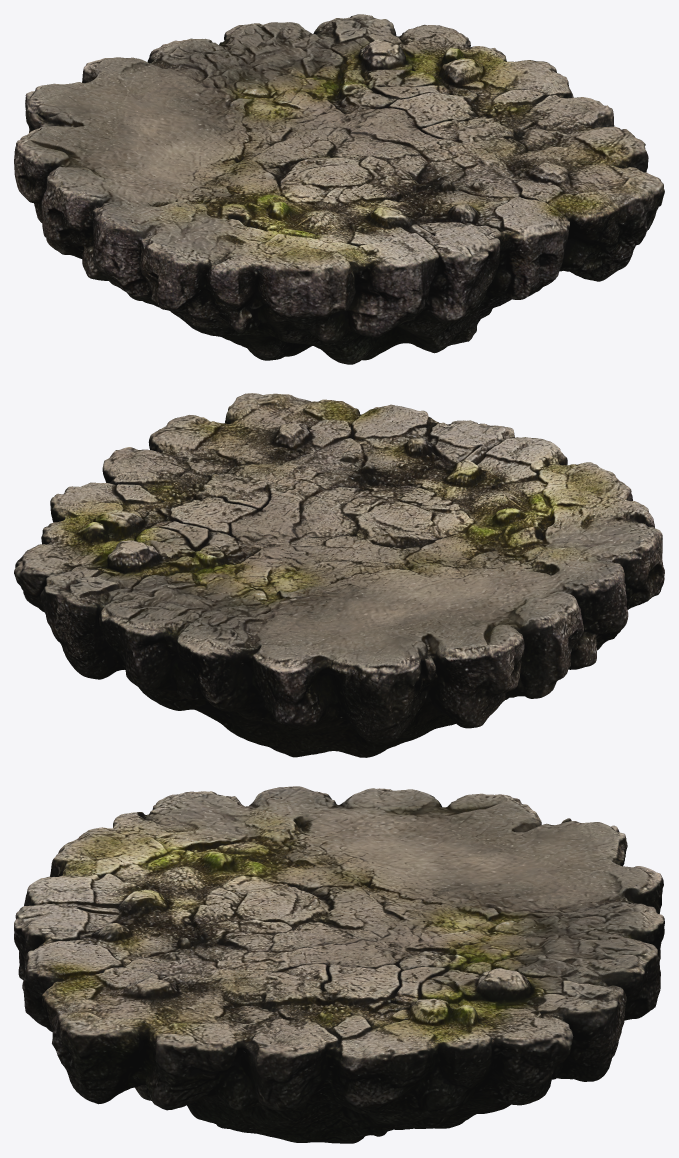
File: rock.glb
3 views of the same model, one above another, from view 1: azimuth 30°, elevation 25°; view 2: azimuth 150°, elevation 25°; view 3: azimuth 270°, elevation 25° (orthographic). The views are drawn at different scales.
Visible parts, largest first — view 1: model; view 2: model; view 3: model.
Part boxes in pixels (x1,y1,x2,y2): model: (14, 14, 664, 364); model: (14, 393, 664, 757); model: (14, 786, 664, 1143).
Size of the model in its own units: 1.85 by 0.6955 by 1.89.
1 material, 1 textured.
